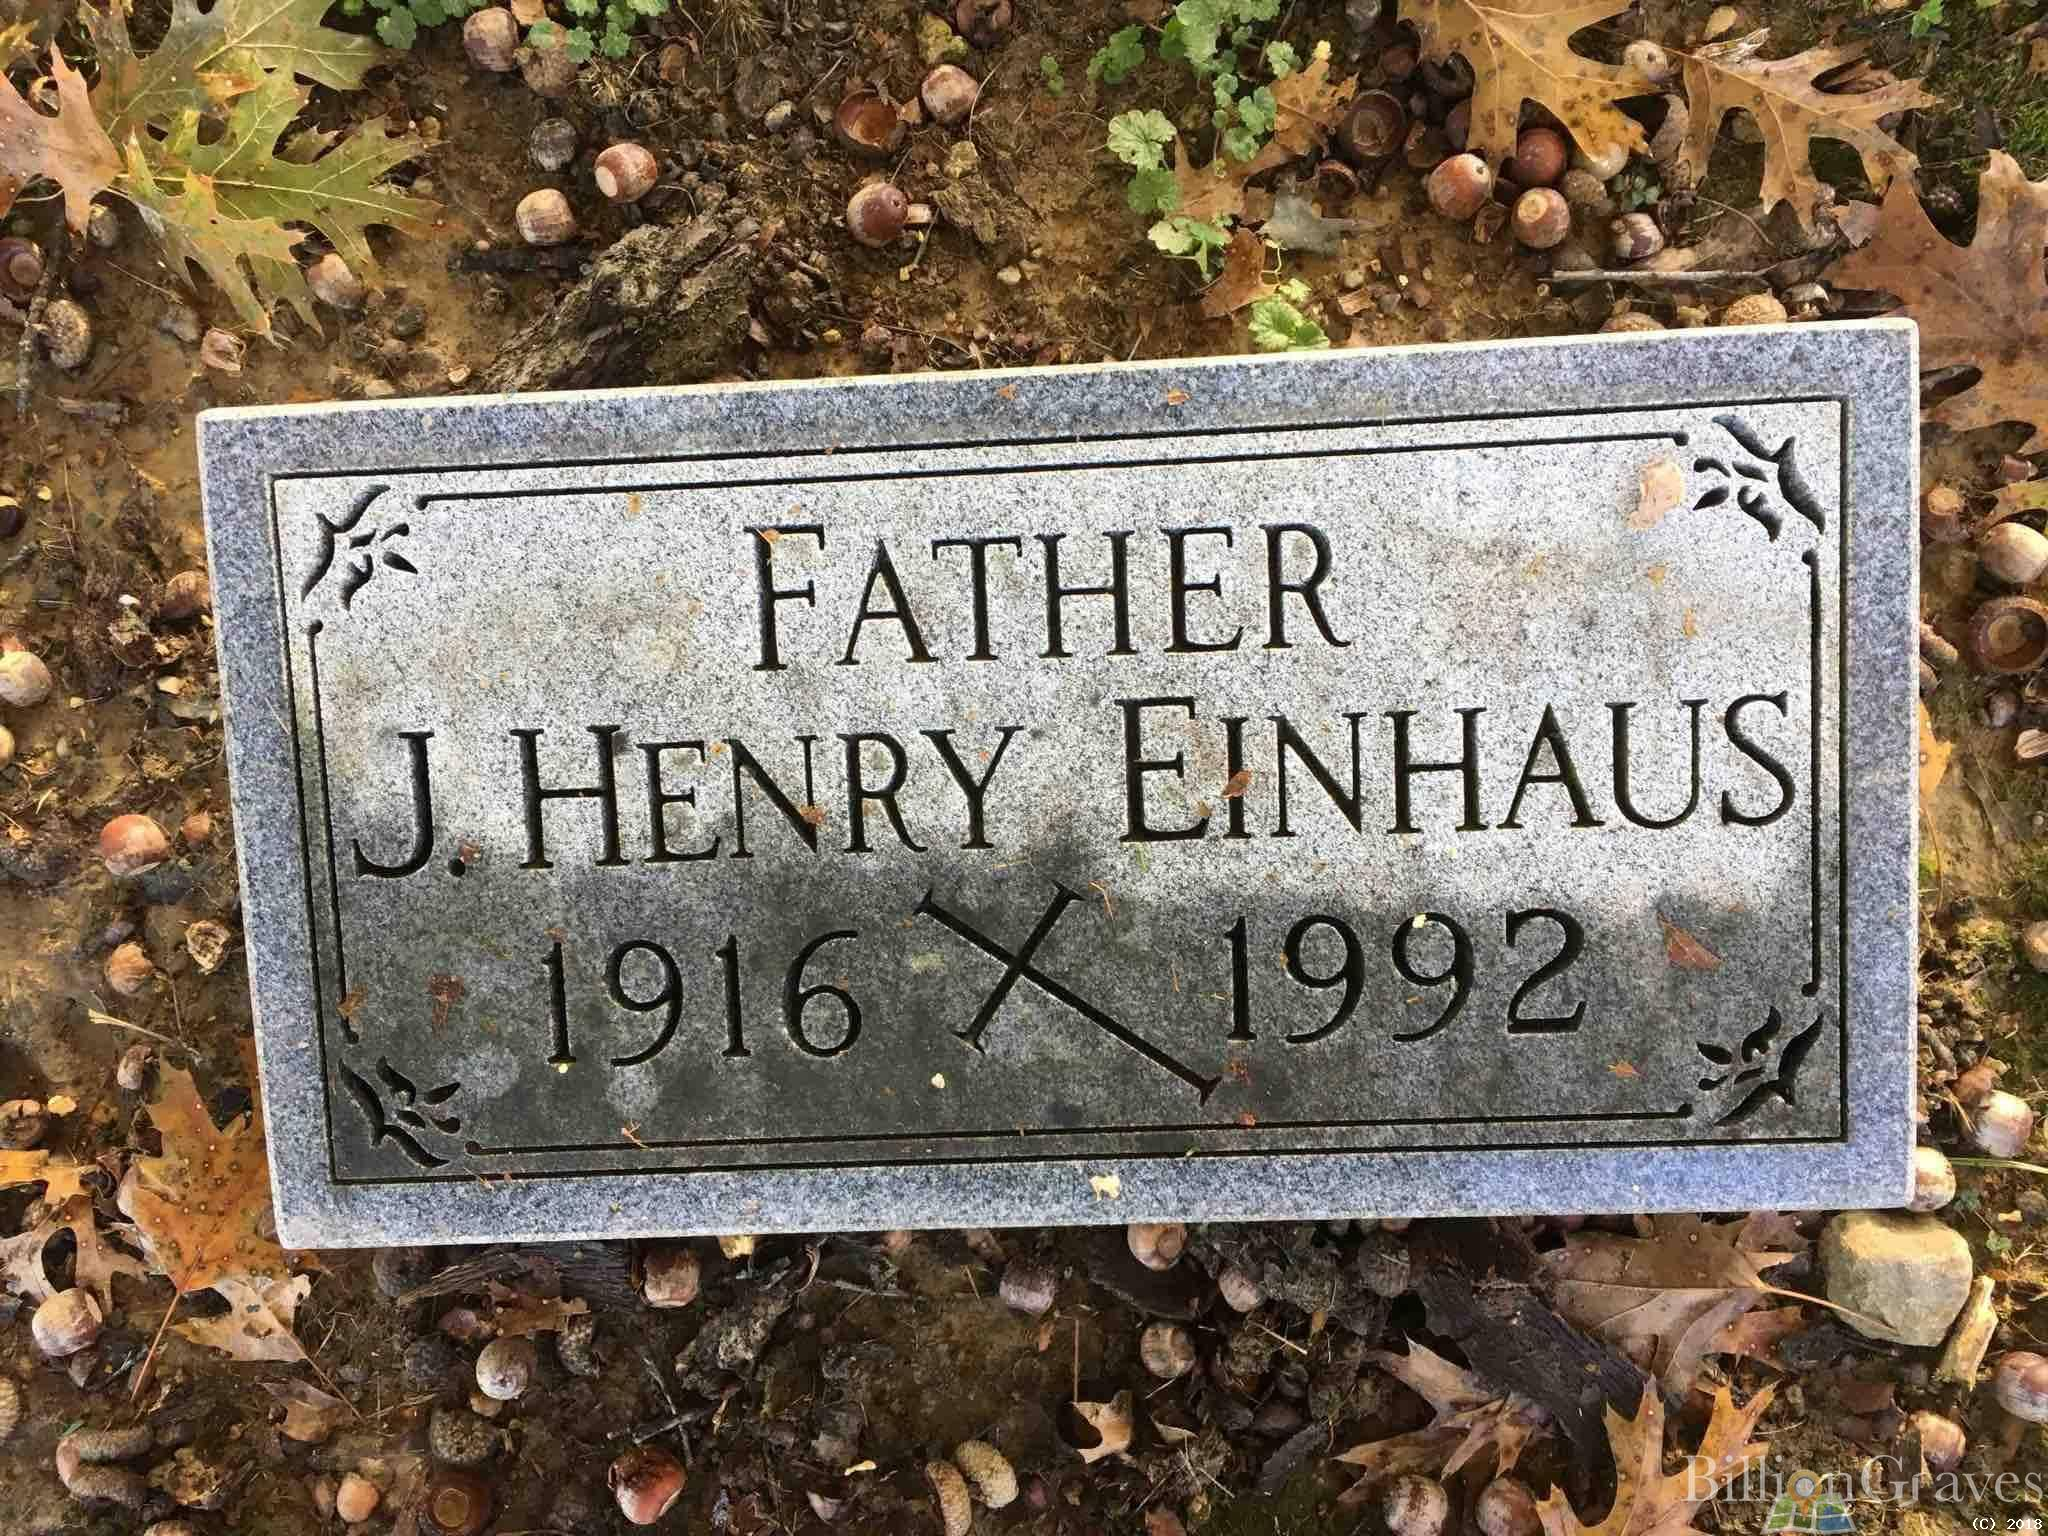flat: (160, 336, 2021, 1246)
